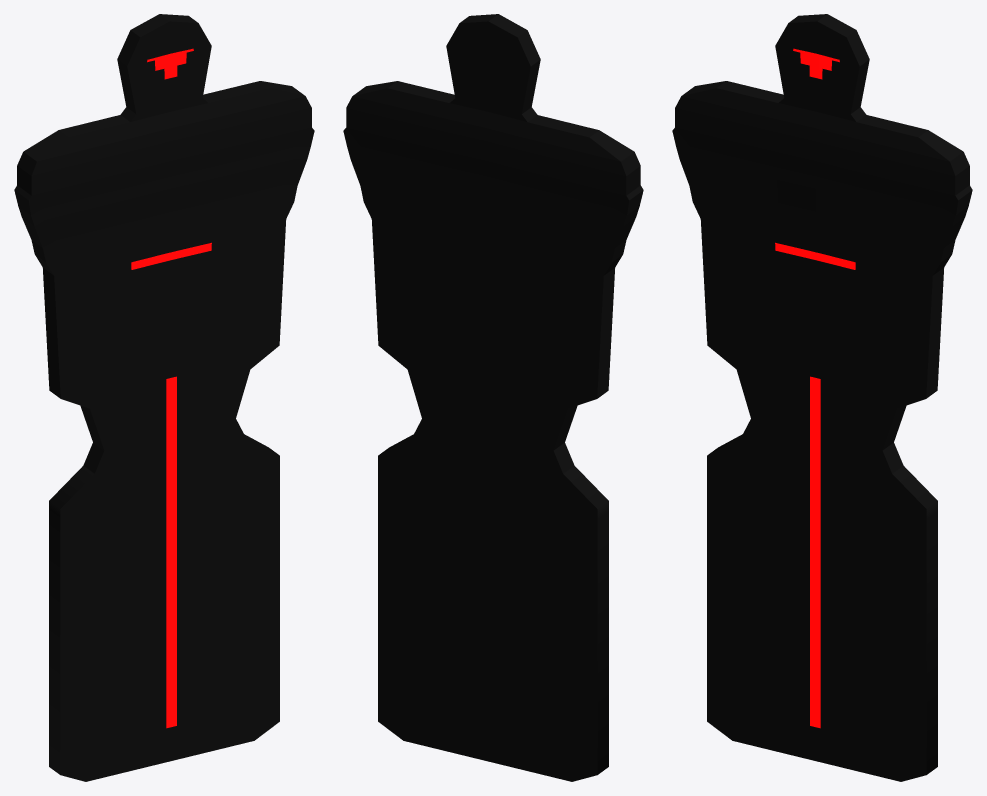
Rendered from Target_Cyber_Animated.FBX.
The picture shows the model from 3 angles, left to right: view 1: azimuth 30°, elevation 25°; view 2: azimuth 150°, elevation 25°; view 3: azimuth 330°, elevation 25°; orthographic projection.
Parts seen in each view (by area): view 1: Box003; view 2: Box003; view 3: Box003.
Boxes of the visible parts, x1,y1,x2,y2 form: Box003: (14,14,314,781); Box003: (343,14,643,781); Box003: (672,14,972,781).
Bounding box in the file's own units: 30.1 × 74.38 × 2.67.
